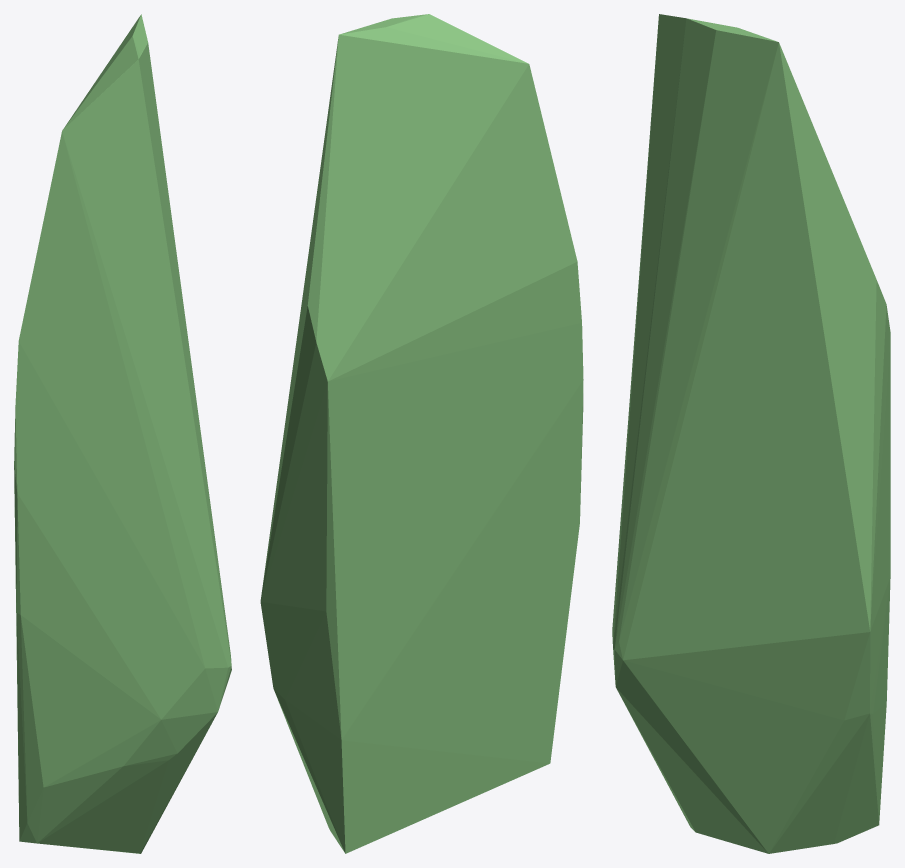
Rendered from interiorPart_dashboard_panel_assembly_a01.glb.
3 views of the same model, side by side, from view 1: azimuth 30°, elevation 25°; view 2: azimuth 150°, elevation 25°; view 3: azimuth 270°, elevation 25° (orthographic). The views are drawn at different scales.
Parts seen in each view (by area): view 1: geometry_0; view 2: geometry_0; view 3: geometry_0.
Boxes of the visible parts, x1,y1,x2,y2 form: geometry_0: (14, 14, 231, 853); geometry_0: (260, 14, 583, 853); geometry_0: (612, 14, 890, 853).
Bounding box in the file's own units: 0.1423 × 0.4798 × 0.1493.
